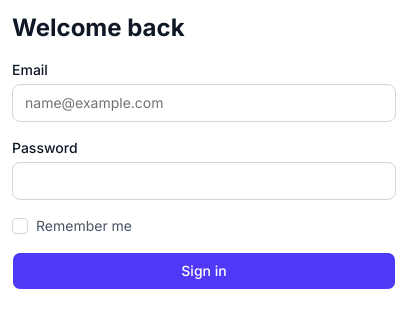
Test: LoginForm › requires a password
Type "john@example.com" into the field labelled "Email" at (204, 103), box [12,84,396,122]
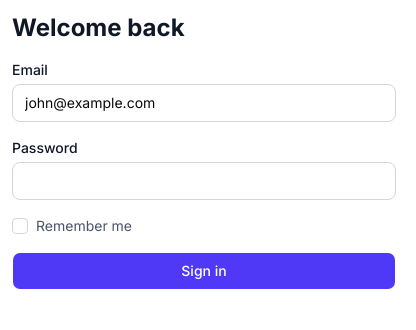
Click the button "Sign in" at (204, 271), box [12,252,396,290]
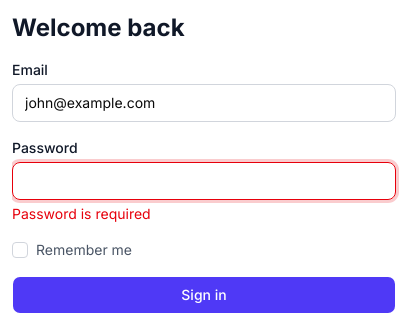
Expected: the text "Password is required" is shown, [12,205,151,222]
